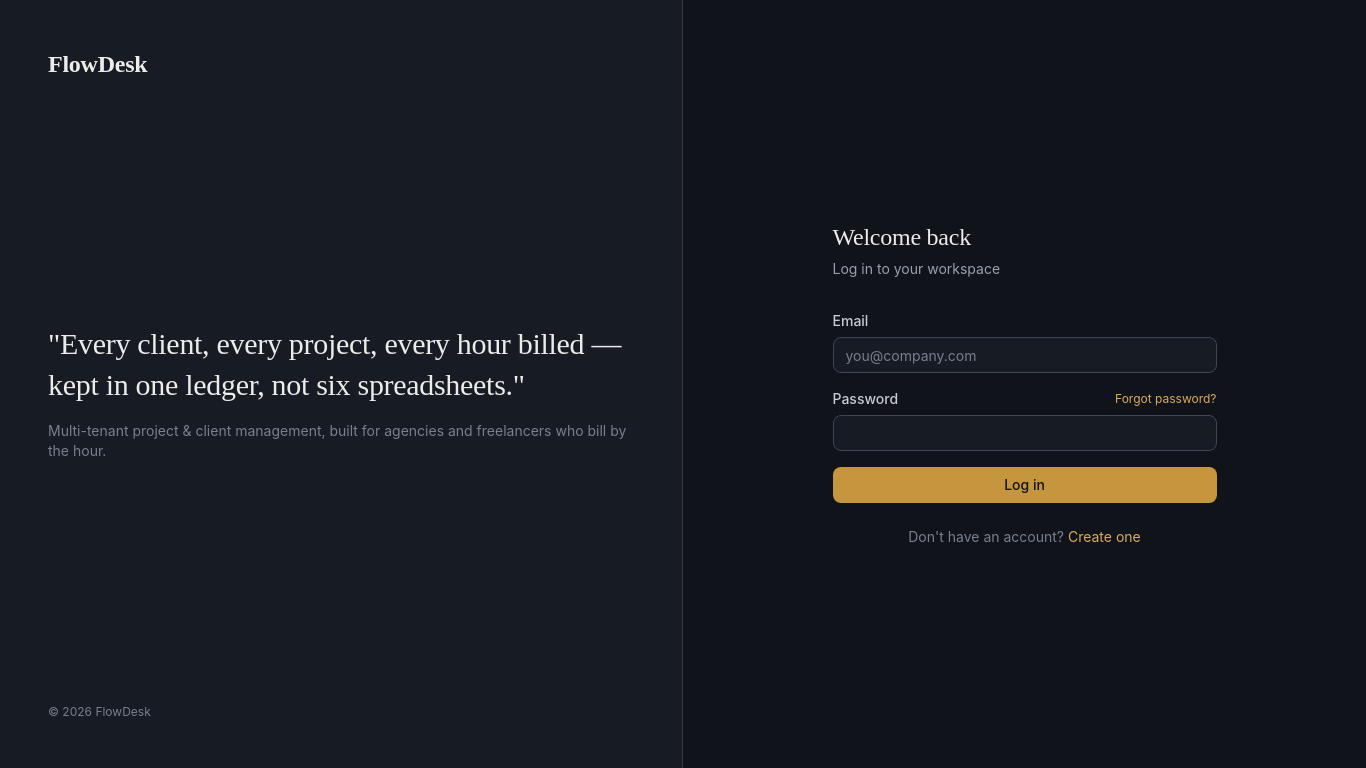
it: LoginPage › shows a validation error for an invalid email
Type "not-an-email" into the field labelled "Email" at (1024, 355), box [832, 337, 1216, 373]
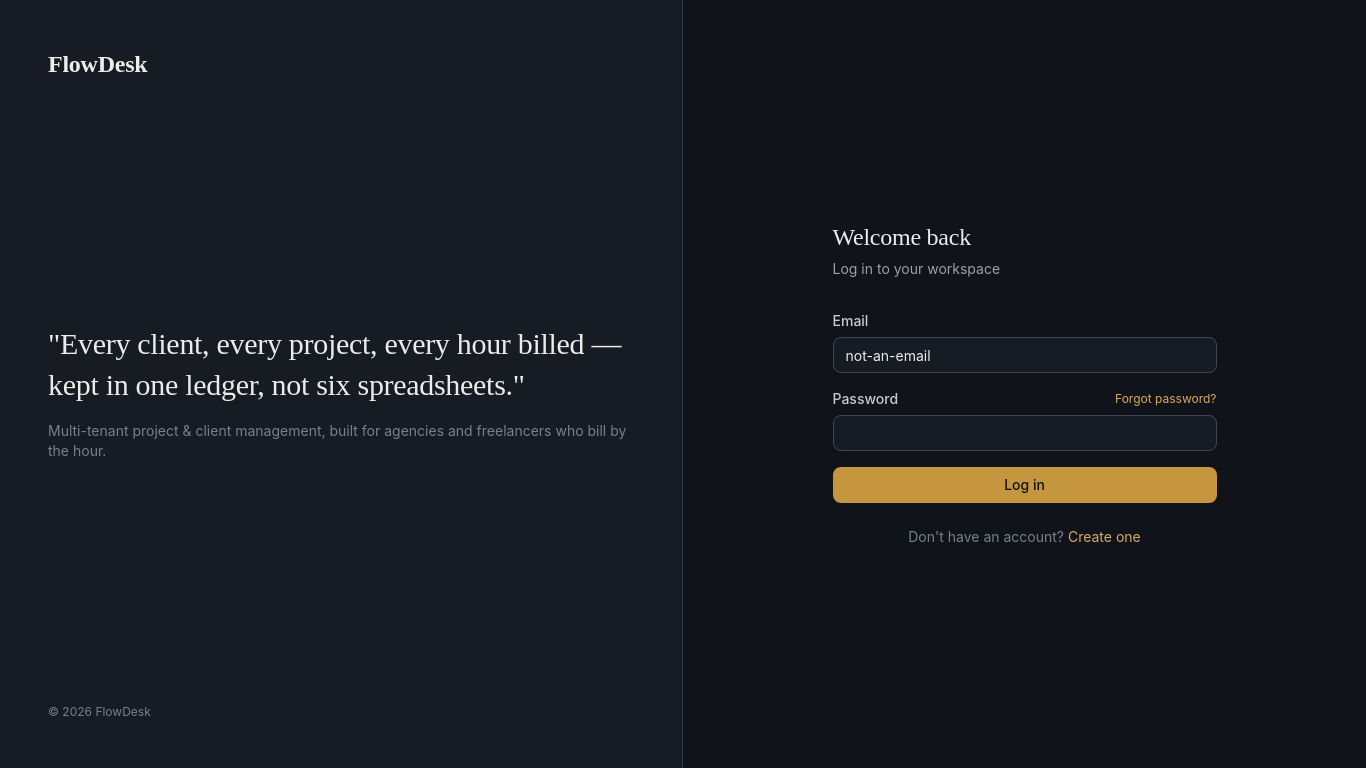
Type "somepassword" into the password field labelled "Password" at (1024, 433), box [832, 415, 1216, 451]
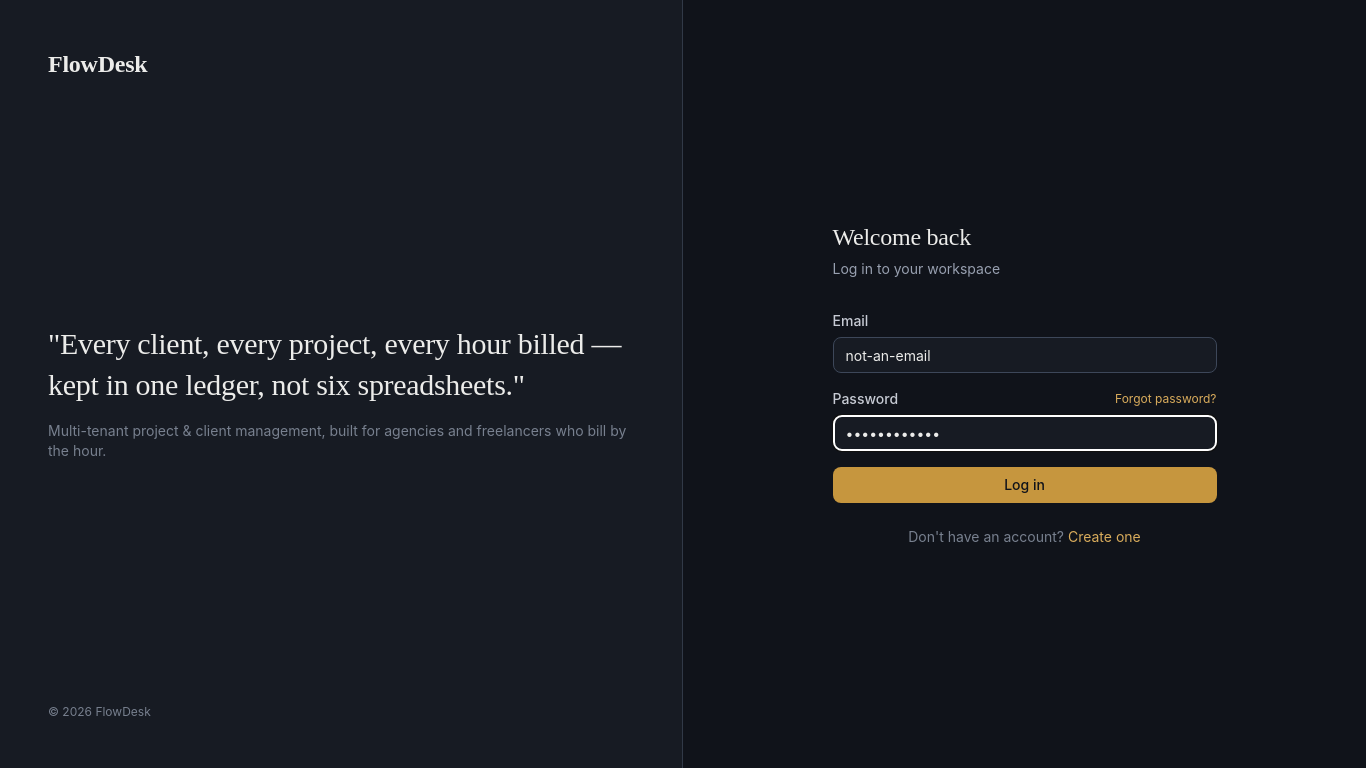
Click the button "Log in" at (1024, 485), box [832, 467, 1216, 503]
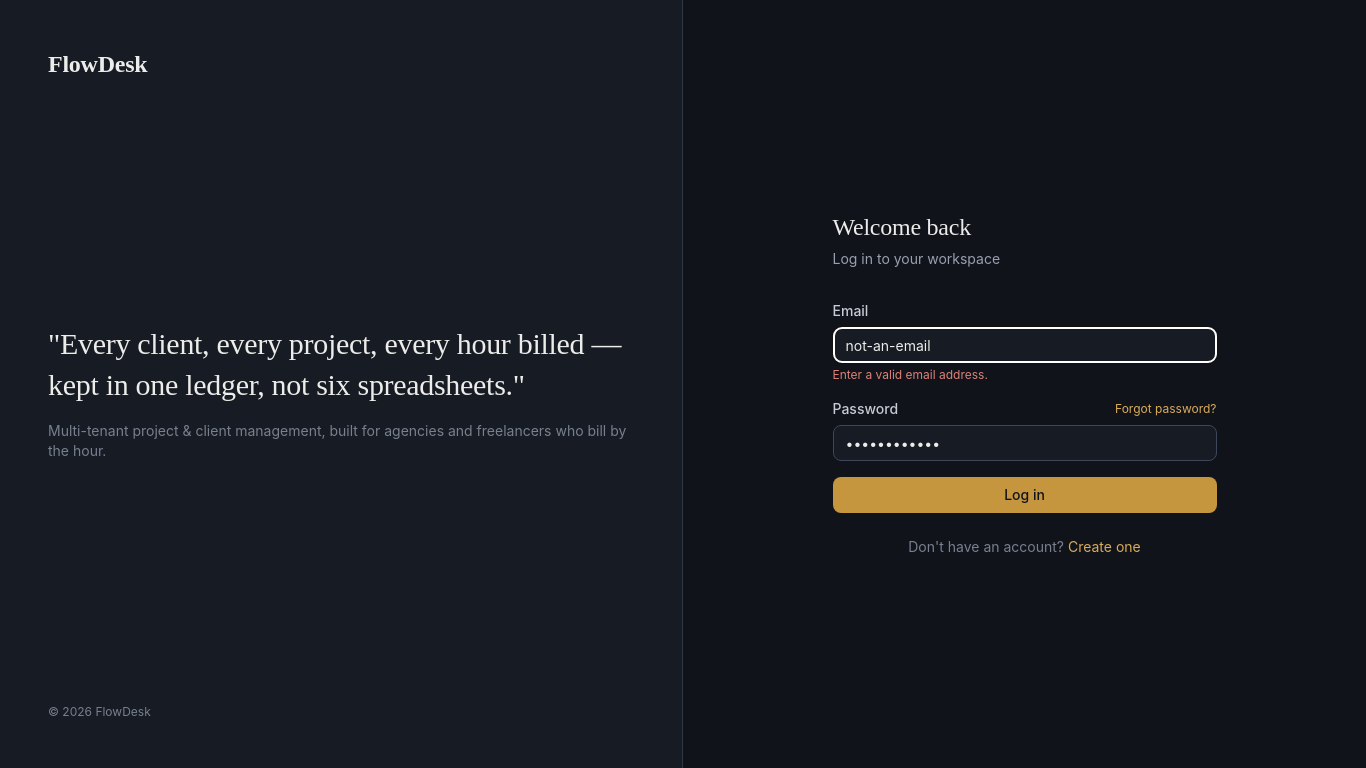
Now the text "Enter a valid email address." is shown, box [832, 367, 988, 382]
